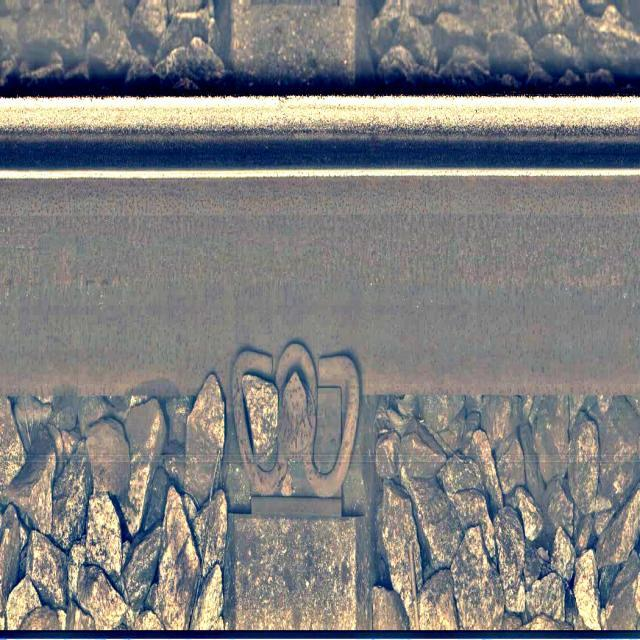Good Fasteners: (244, 342, 360, 513), (234, 353, 258, 457)
